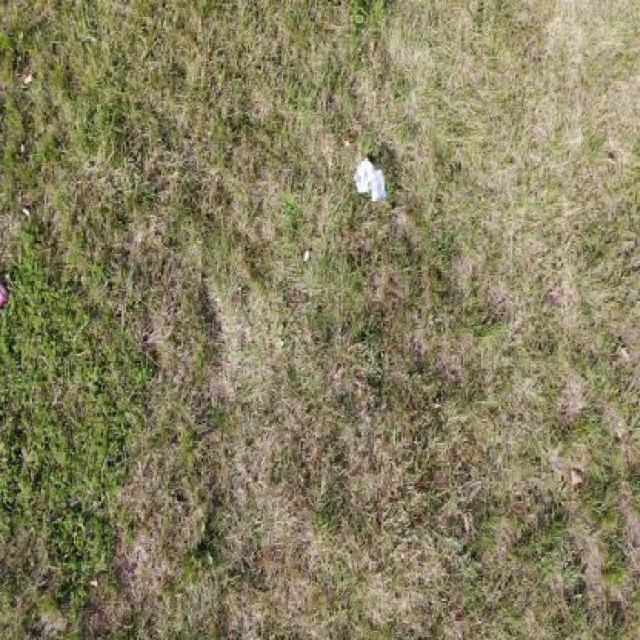Garbage: (353, 156, 387, 201), (0, 283, 7, 309)
